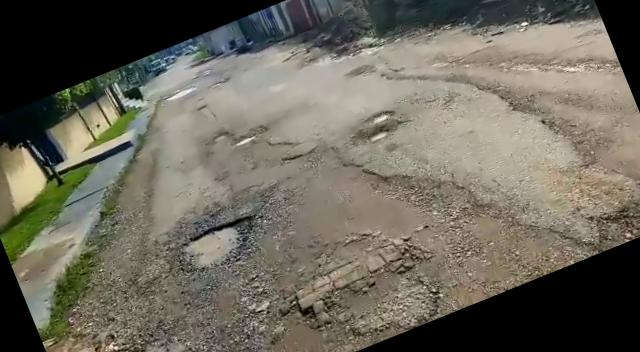pothole: (173, 211, 268, 279), (363, 106, 396, 128), (231, 131, 258, 149), (365, 127, 390, 144), (210, 130, 232, 145)
